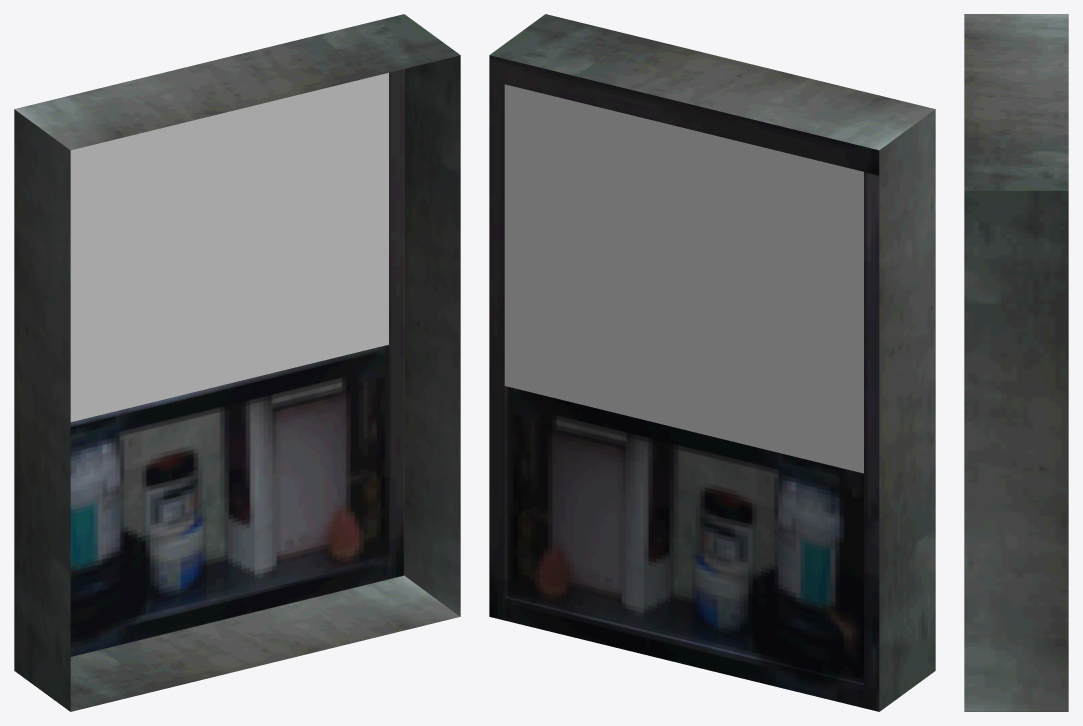
File: Baño_Mochila.fbx
3 renders of one model, left to right at view 1: azimuth 30°, elevation 25°; view 2: azimuth 150°, elevation 25°; view 3: azimuth 270°, elevation 25°, orthographic. The views are drawn at different scales.
Visible parts, largest first — view 1: baño_Mochila; view 2: baño_Mochila; view 3: baño_Mochila.
Boxes of the visible parts, x1,y1,x2,y2 form: baño_Mochila: (14, 14, 460, 711); baño_Mochila: (489, 14, 935, 711); baño_Mochila: (964, 14, 1068, 711).
Size of the model in its own units: 40 by 55 by 10.
